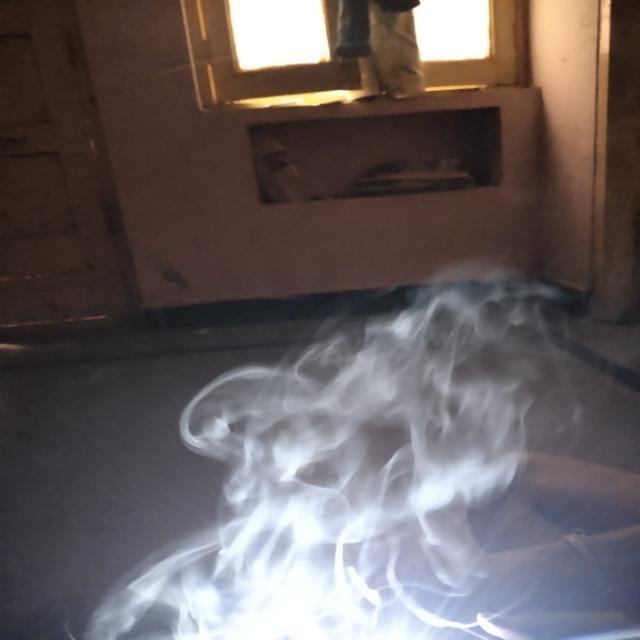fire: (162, 293, 546, 620)
